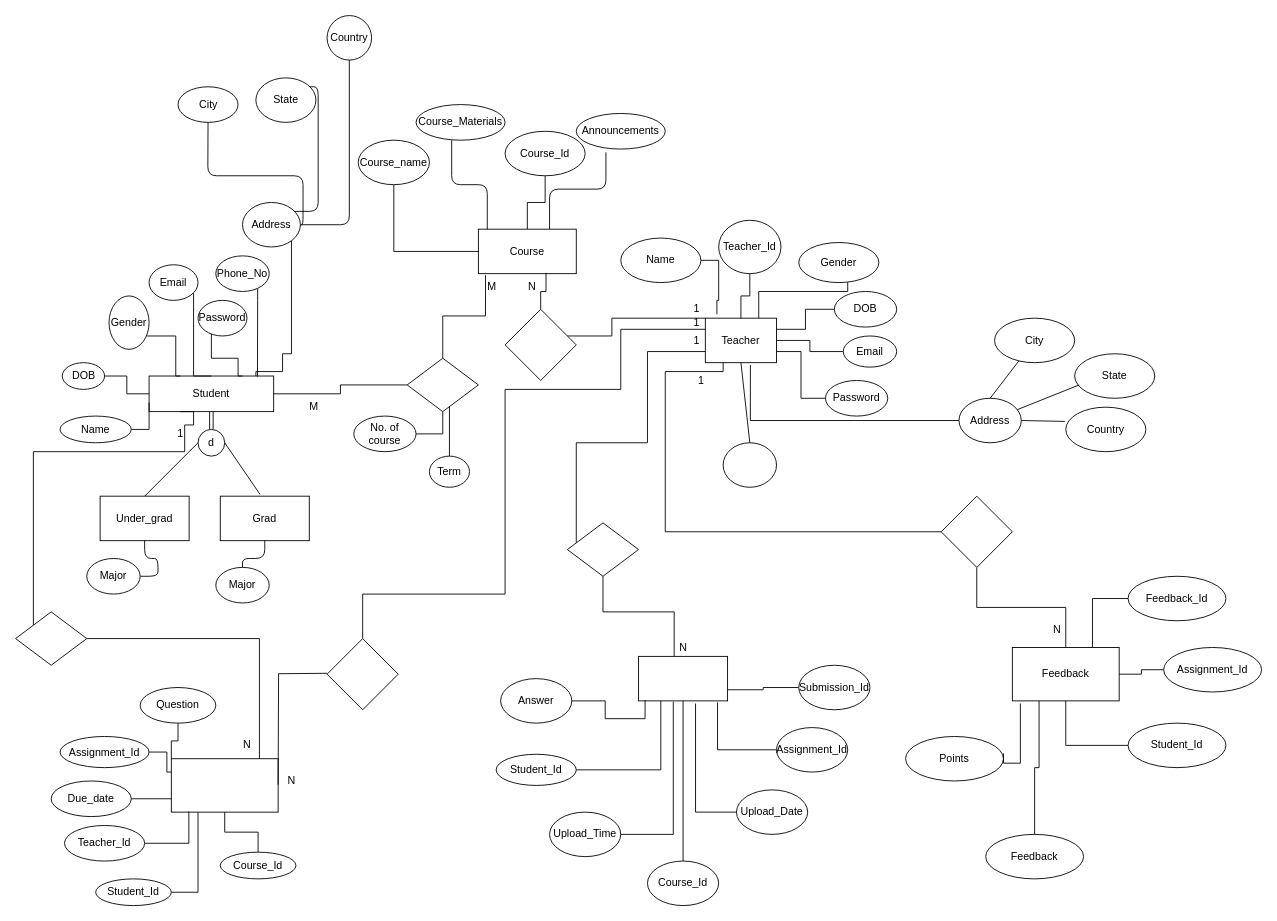
Image size: 1277x921. Some labels were removed from this diagram. Here are the shapes that lost their labels. From the top down, the centre of each, then its label:
At [540,344]: "Teaches".
At [442,384]: "Enroll".
At [749,464]: "Phone".
At [602,549]: "View".
At [976,531]: "Gives".
At [51,638]: "Submit".
At [362,674]: "Upload".
At [683,678]: "Submission".
At [224,785]: "Assignment".
